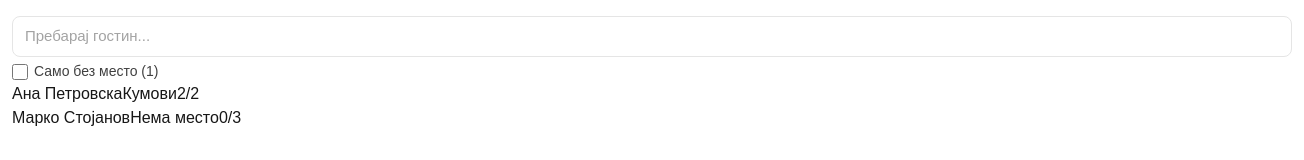
Test case: SeatingGuestList (phone seating, from the guests' side) › shows each guest's seats and table, and filters to the ones still without a seat
Check: the button with aria-label "Ана Петровска: 2 од 2 места, Кумови" is shown, box [12,82,199,106]
Check: the button with aria-label "Марко Стојанов: 0 од 3 места. Избери маса" is shown, box [12,106,241,130]
Click the checkbox labelled "Само без место (1)" at [20, 72], box [12,64,28,80]
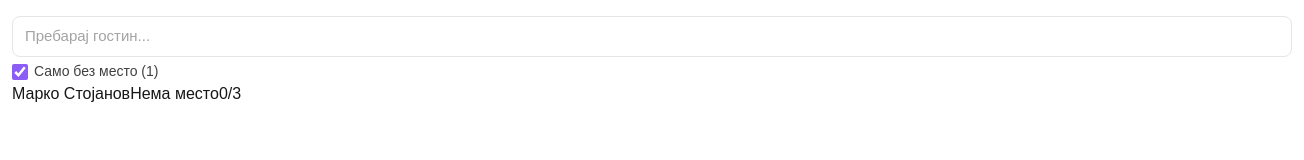
Check: the text "Марко Стојанов" is shown, box [12,84,130,102]
Check: the button "Ана Петровска" is gone
